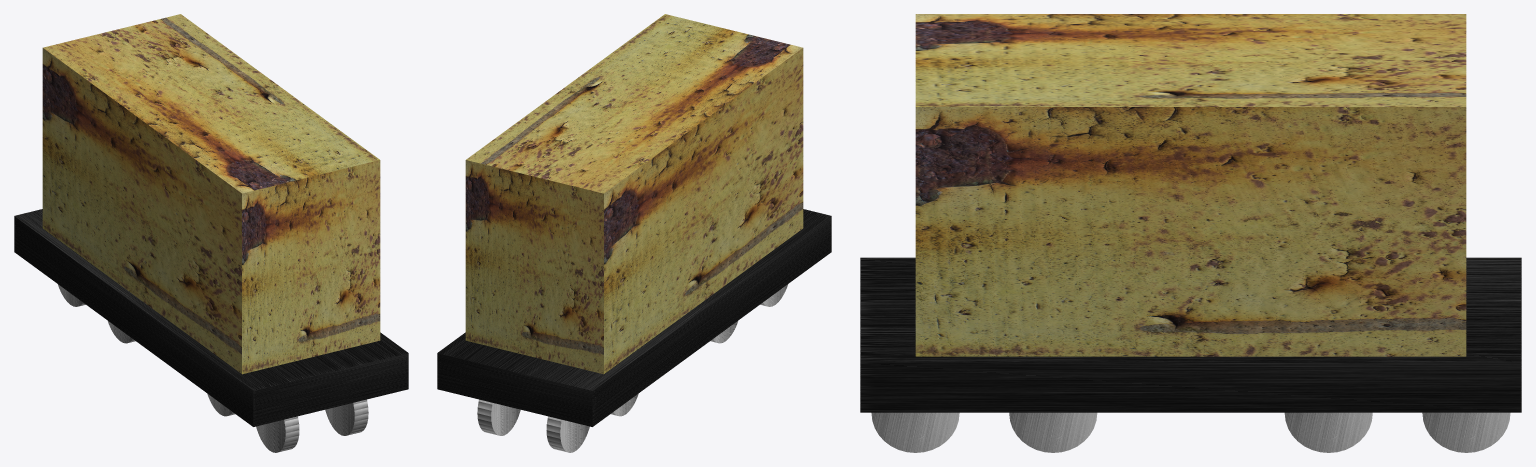
The model's file is wagon1.fbx.
3 renders of one model, left to right at view 1: azimuth 30°, elevation 25°; view 2: azimuth 150°, elevation 25°; view 3: azimuth 270°, elevation 25°, orthographic. The views are drawn at different scales.
Visible parts, largest first — view 1: Cube, Cube.001, Cylinder.006, Cylinder.005; view 2: Cube, Cube.001, Cylinder.012, Cylinder.011; view 3: Cube, Cube.001, Cylinder.007, Cylinder.010, Cylinder.005, Cylinder.011.
Part boxes in pixels (x1=…): Cube: x1=42, y1=14, x2=380, y2=374; Cube.001: x1=14, y1=209, x2=408, y2=426; Cylinder.006: x1=256, y1=416, x2=299, y2=452; Cylinder.005: x1=325, y1=399, x2=368, y2=435; Cube: x1=465, y1=14, x2=803, y2=374; Cube.001: x1=437, y1=209, x2=831, y2=426; Cylinder.012: x1=546, y1=416, x2=589, y2=452; Cylinder.011: x1=477, y1=399, x2=520, y2=435; Cube: x1=915, y1=14, x2=1466, y2=356; Cube.001: x1=860, y1=257, x2=1521, y2=412; Cylinder.007: x1=1009, y1=412, x2=1097, y2=452; Cylinder.010: x1=1284, y1=412, x2=1372, y2=452; Cylinder.005: x1=871, y1=412, x2=959, y2=452; Cylinder.011: x1=1422, y1=412, x2=1510, y2=452.
Bounding box in the file's own units: 225 × 365 × 600.
Materials: 10 (10 with a texture image).
